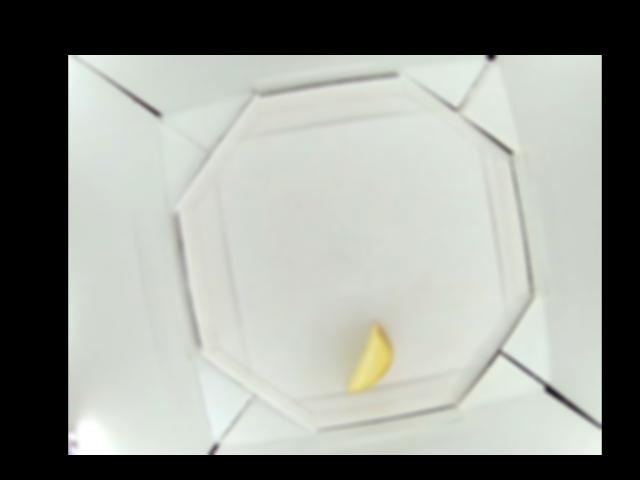Potato: (346, 322, 395, 393)
